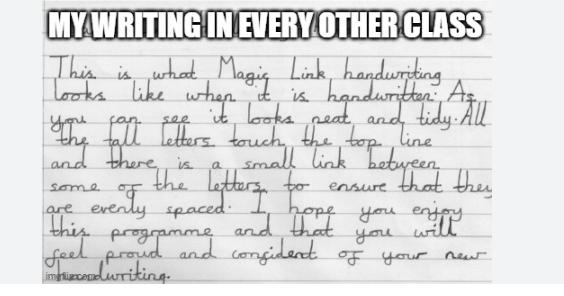text: (46, 6, 485, 41), (44, 236, 488, 270), (46, 188, 465, 224), (48, 100, 488, 134), (49, 169, 492, 201), (48, 53, 442, 87), (48, 214, 458, 246), (55, 124, 434, 153), (53, 79, 476, 104), (49, 146, 442, 171), (44, 259, 172, 285)
